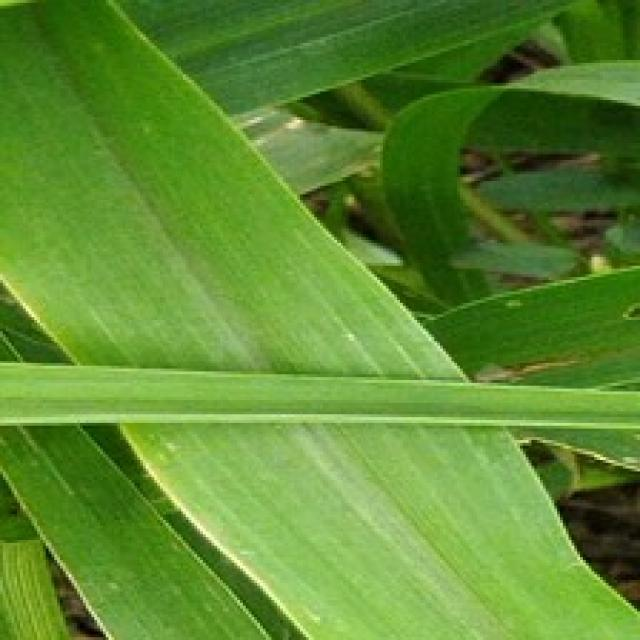Corn: (0, 0, 637, 637), (377, 51, 637, 303)
